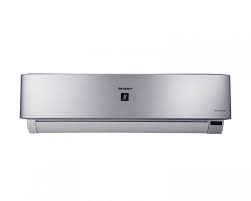ac: (17, 71, 234, 145)
